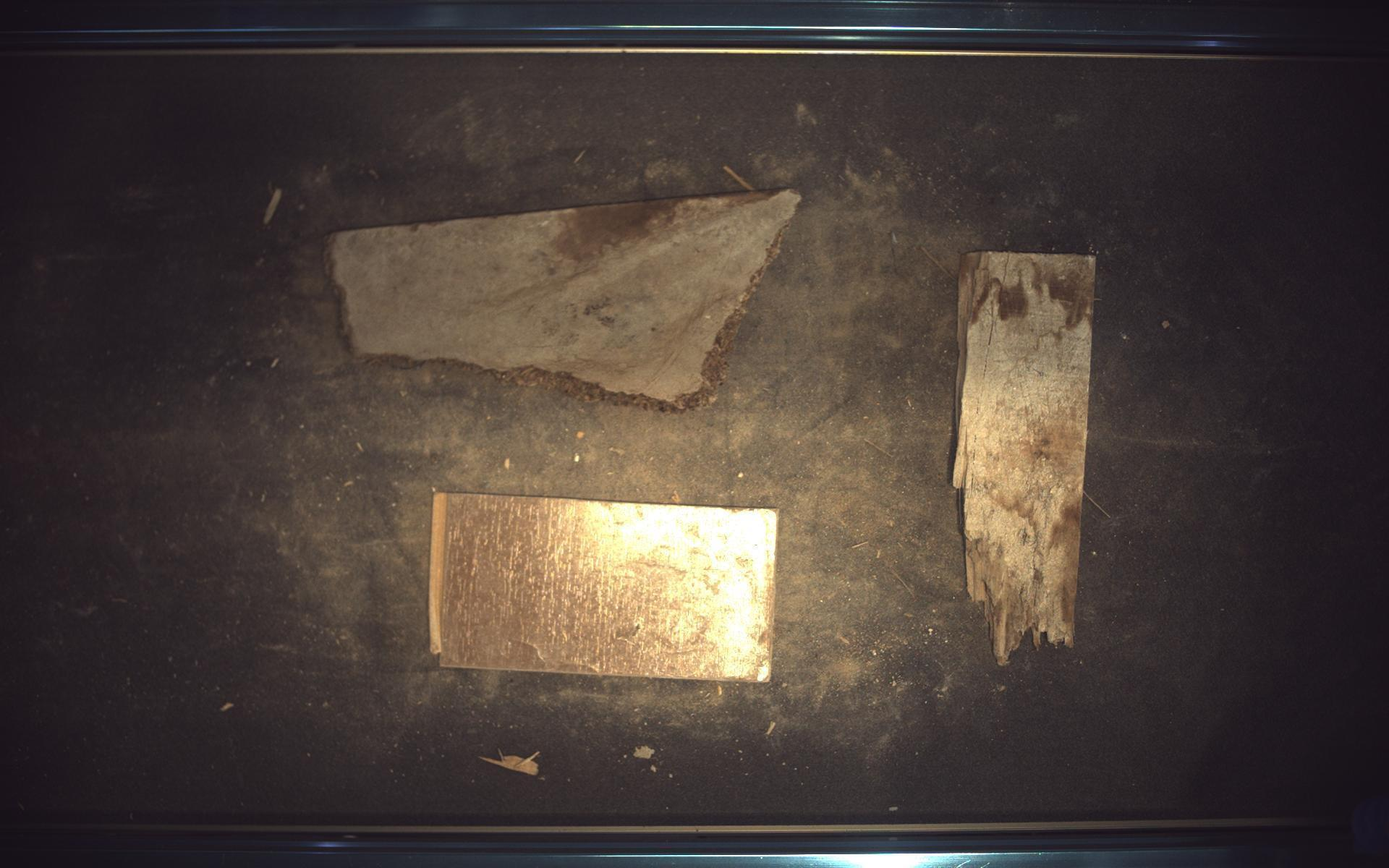wood: (327, 189, 801, 411), (429, 493, 778, 683), (954, 251, 1098, 665)
